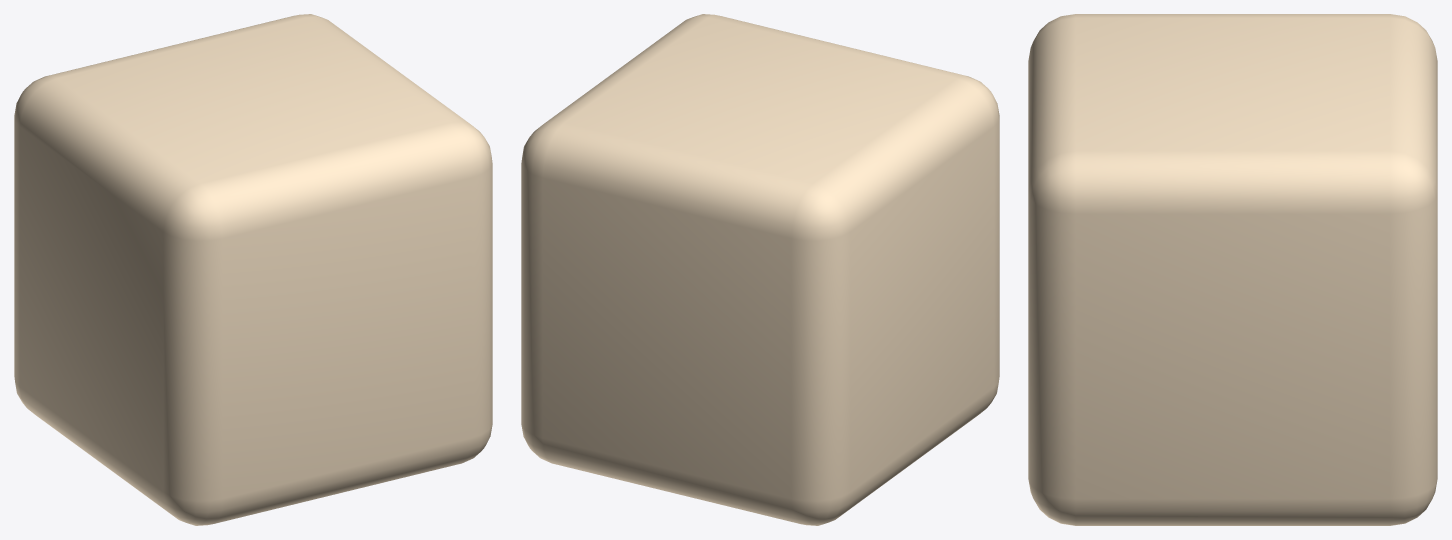
The picture shows the model from 3 angles, left to right: view 1: azimuth 30°, elevation 25°; view 2: azimuth 150°, elevation 25°; view 3: azimuth 270°, elevation 25°; orthographic projection. The views are drawn at different scales.
Visible parts, largest first — view 1: Cube.027; view 2: Cube.027; view 3: Cube.027.
Part boxes in pixels (<box>): Cube.027: <box>14,14,492,525</box>; Cube.027: <box>521,14,999,525</box>; Cube.027: <box>1028,14,1437,525</box>.
Bounding box in the file's own units: 2 × 2 × 2.
